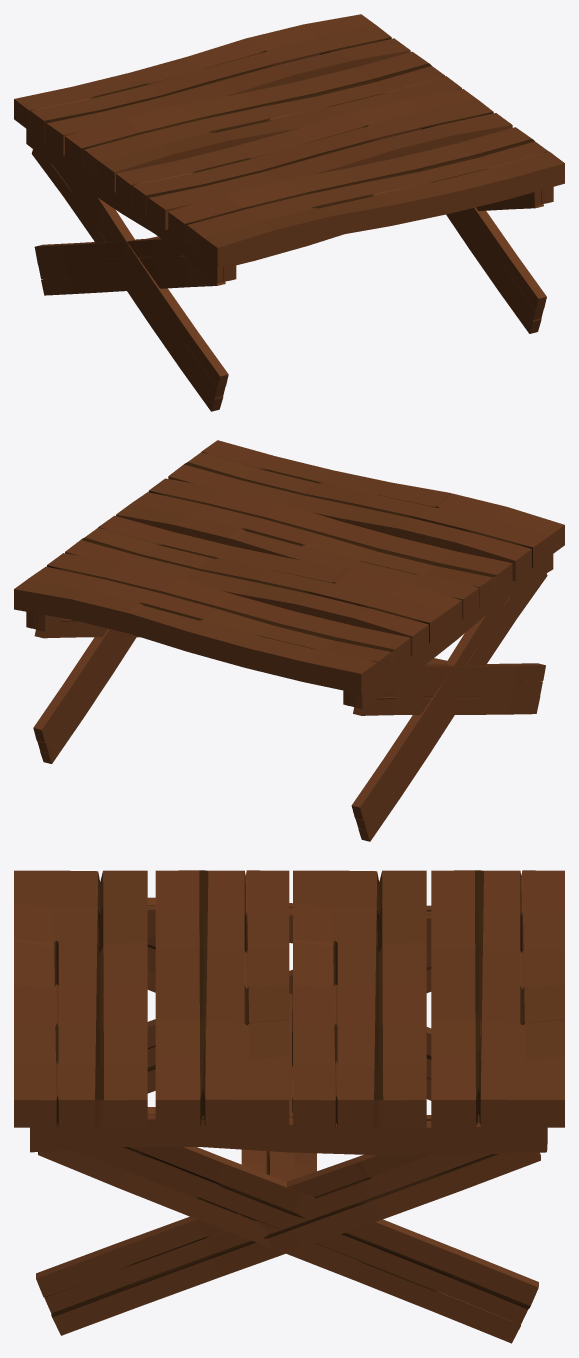
File: SmallerWoodenTable.fbx
3 views of the same model, one above another, from view 1: azimuth 30°, elevation 25°; view 2: azimuth 150°, elevation 25°; view 3: azimuth 270°, elevation 25° (orthographic). The views are drawn at different scales.
Visible parts, largest first — view 1: Cube; view 2: Cube; view 3: Cube.
Boxes of the visible parts, left/top/right/bottom form: Cube: left=14, top=14, right=564, bottom=411; Cube: left=14, top=440, right=564, bottom=841; Cube: left=14, top=870, right=564, bottom=1343.
Bounding box in the file's own units: 525 × 272 × 532.
